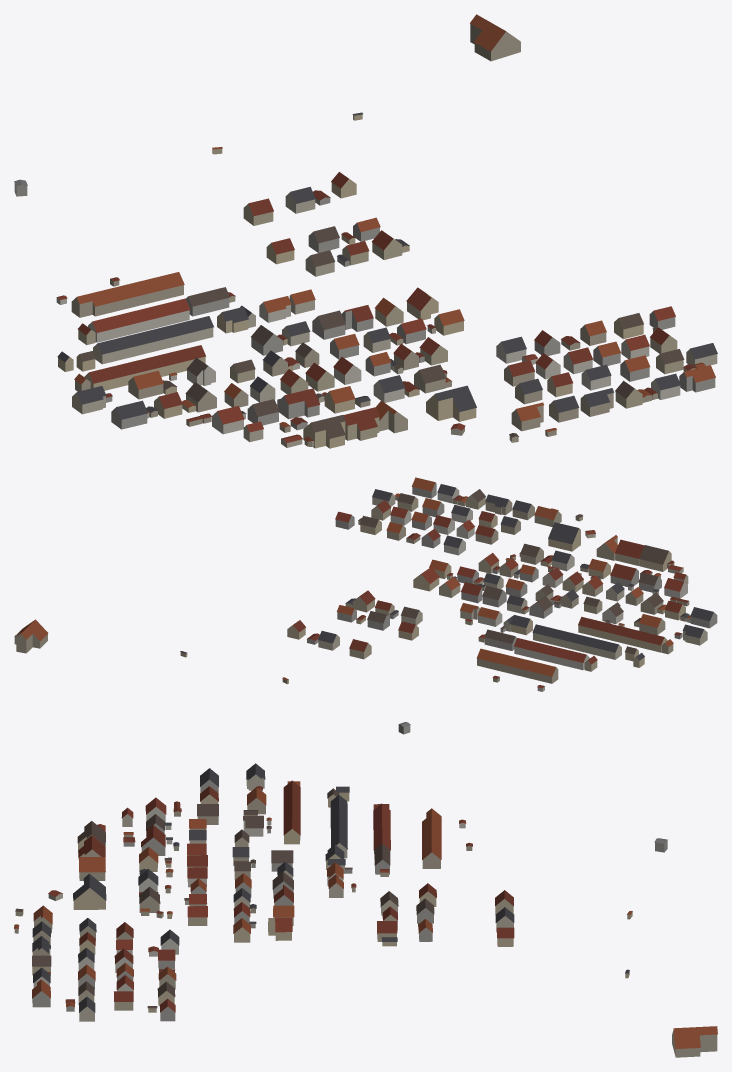
The picture shows the model from 3 angles, top to bottom: view 1: azimuth 30°, elevation 25°; view 2: azimuth 150°, elevation 25°; view 3: azimuth 270°, elevation 25°; orthographic projection. The views are drawn at different scales.
Parts seen in each view (by area): view 1: buildings; view 2: buildings; view 3: buildings.
Boxes of the visible parts, x1,y1,x2,y2 form: buildings: (14, 14, 717, 448); buildings: (14, 477, 717, 734); buildings: (14, 763, 717, 1057).
Bounding box in the file's own units: 416 × 31.63 × 421.
